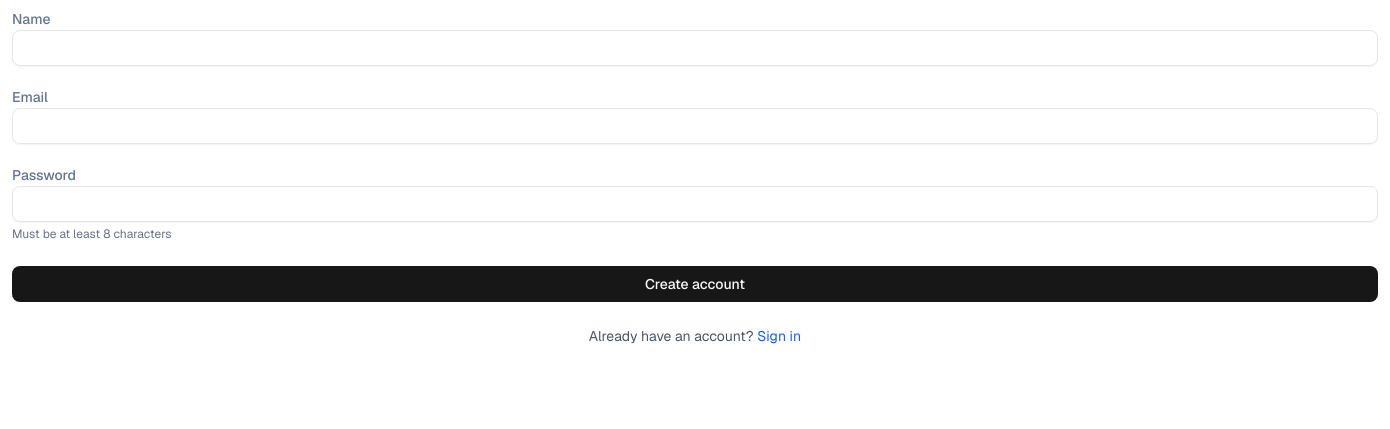
Scenario: RegisterForm › shows error on failed registration
In the field labelled "Name": (695, 48) [12,30,1378,66], type "Test User"
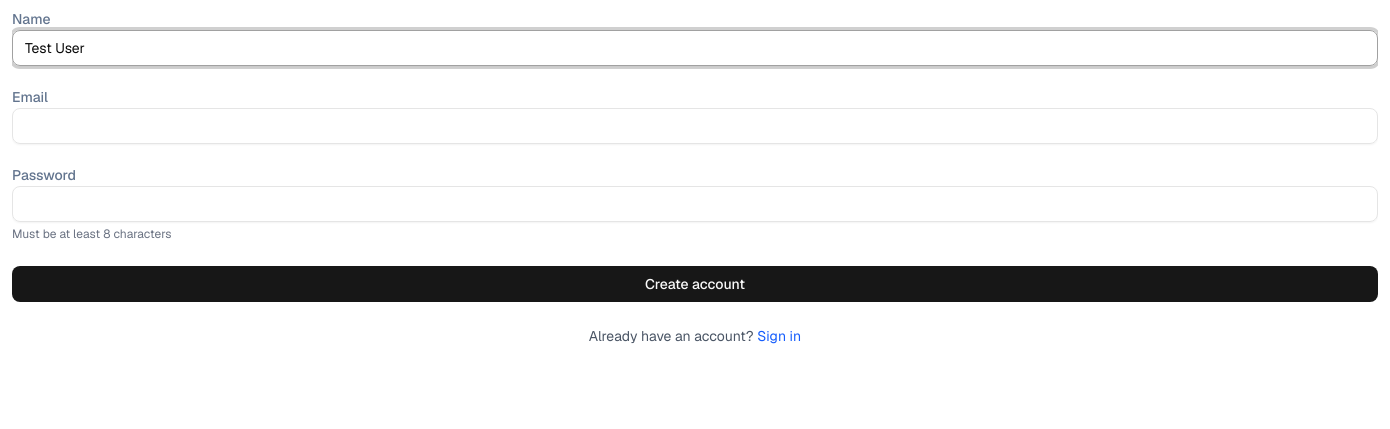
In the field labelled "Email": (695, 126) [12,108,1378,144], type "dupe@example.com"
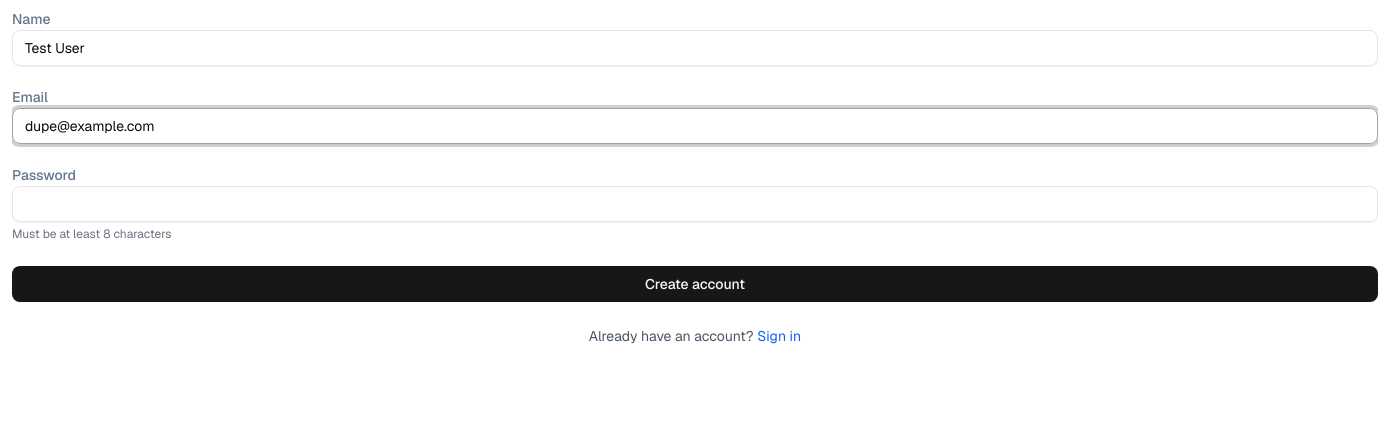
In the password field labelled "Password": (695, 204) [12,186,1378,222], type "password123"
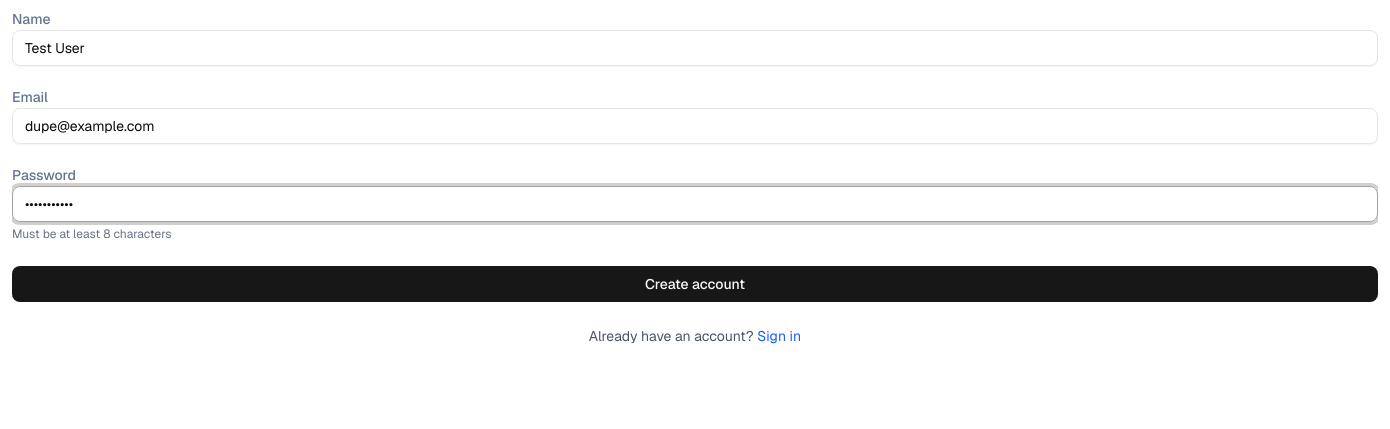
Click the button "Create account": (695, 284) [12,266,1378,302]
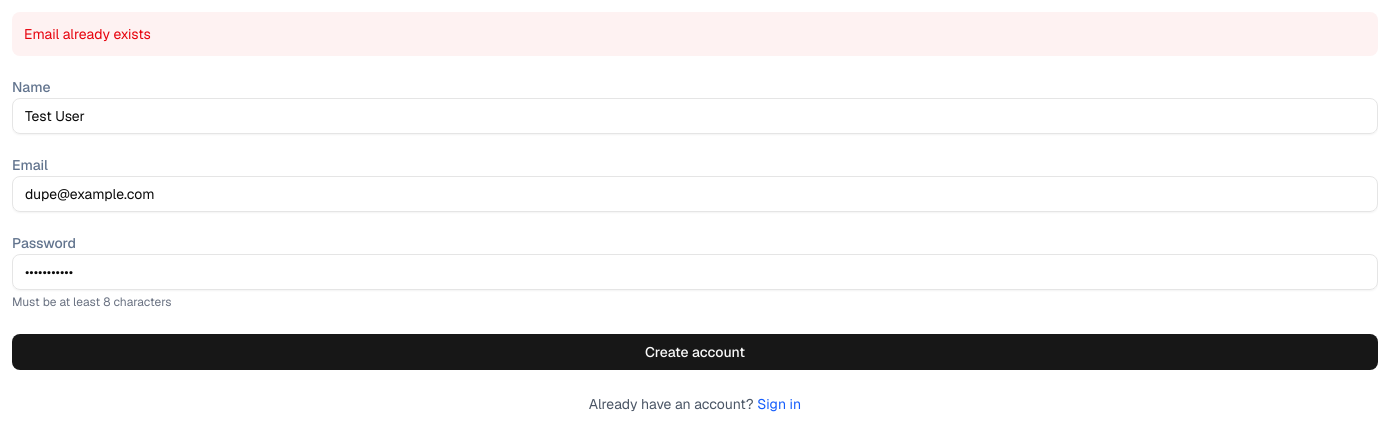
Check: the text "Email already exists" is shown, box [12,12,1378,56]
